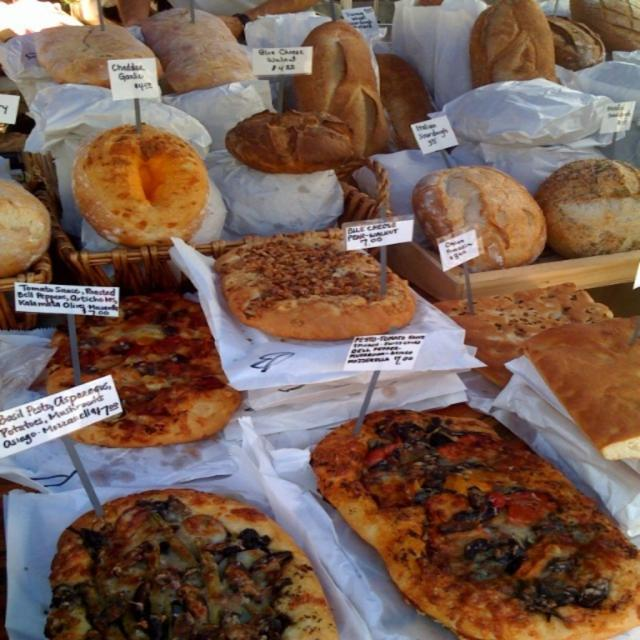Bagel: (68, 122, 210, 247)
